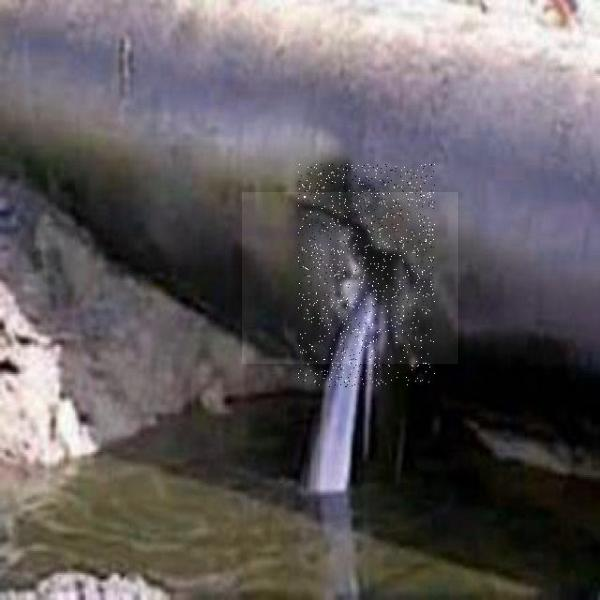water: (242, 192, 458, 364)
